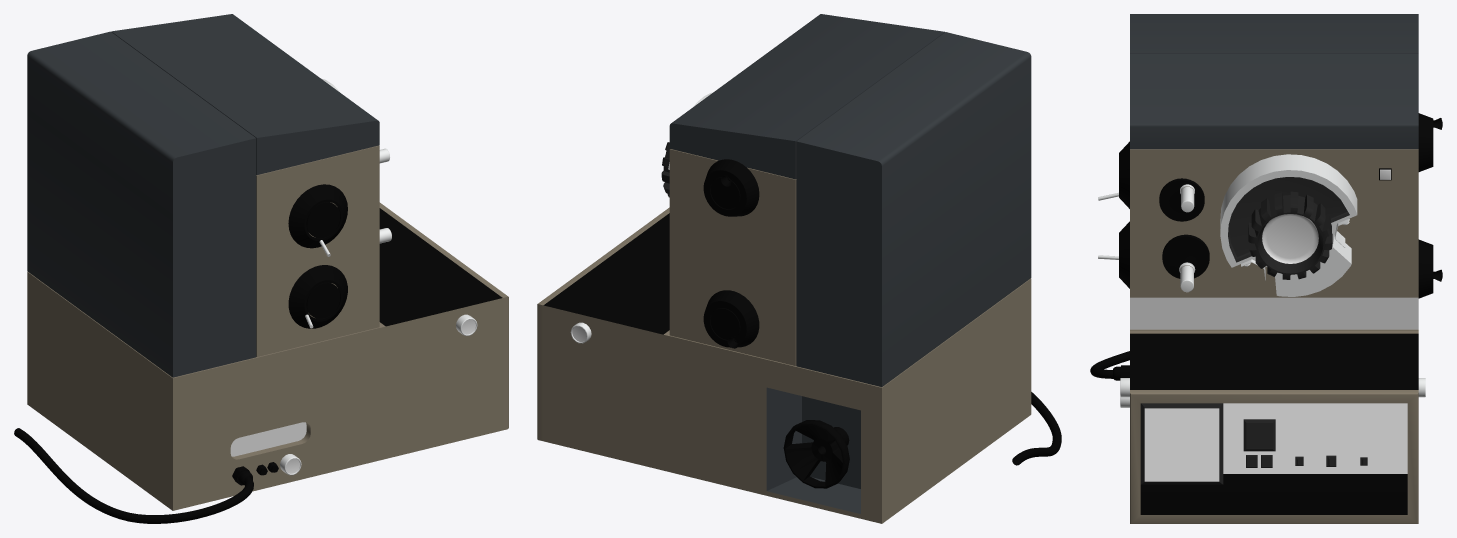
Rendered from IGT Printability Tester.fbx.
3 views of the same model, side by side, from view 1: azimuth 30°, elevation 25°; view 2: azimuth 150°, elevation 25°; view 3: azimuth 270°, elevation 25° (orthographic). The views are drawn at different scales.
Parts seen in each view (by area): view 1: Cube, Cylinder.010, Cylinder.012, cable; view 2: Cube, Cylinder.020, Cylinder.015, Cylinder.017, cable; view 3: Cube, Cylinder.008, Cylinder.009, Plane.007, Cylinder.007, Cylinder.006, Plane.001, Plane, Cylinder.017, Cylinder.015, Cylinder.010, Cylinder.012 (+1 smaller).
Part boxes in pixels (left/top/right/bottom): Cube: left=27, top=14, right=508, bottom=510; Cylinder.010: left=288, top=184, right=347, bottom=248; Cylinder.012: left=288, top=265, right=347, bottom=328; cable: left=14, top=428, right=253, bottom=523; Cube: left=537, top=14, right=1031, bottom=523; Cylinder.020: left=783, top=420, right=849, bottom=488; Cylinder.015: left=703, top=159, right=759, bottom=216; Cylinder.017: left=703, top=290, right=759, bottom=347; cable: left=1012, top=392, right=1061, bottom=465; Cube: left=1130, top=14, right=1418, bottom=523; Cylinder.008: left=1220, top=154, right=1357, bottom=296; Cylinder.009: left=1248, top=191, right=1332, bottom=279; Plane.007: left=1144, top=408, right=1219, bottom=481; Cylinder.007: left=1162, top=234, right=1209, bottom=292; Cylinder.006: left=1159, top=178, right=1204, bottom=221; Plane.001: left=1140, top=403, right=1223, bottom=484; Plane: left=1243, top=419, right=1275, bottom=451; Cylinder.017: left=1418, top=239, right=1433, bottom=298; Cylinder.015: left=1418, top=113, right=1433, bottom=171; Cylinder.010: left=1119, top=141, right=1129, bottom=208; Cylinder.012: left=1119, top=221, right=1129, bottom=288.
Size of the model in its own units: 0.5855 by 0.4919 by 0.4391.
